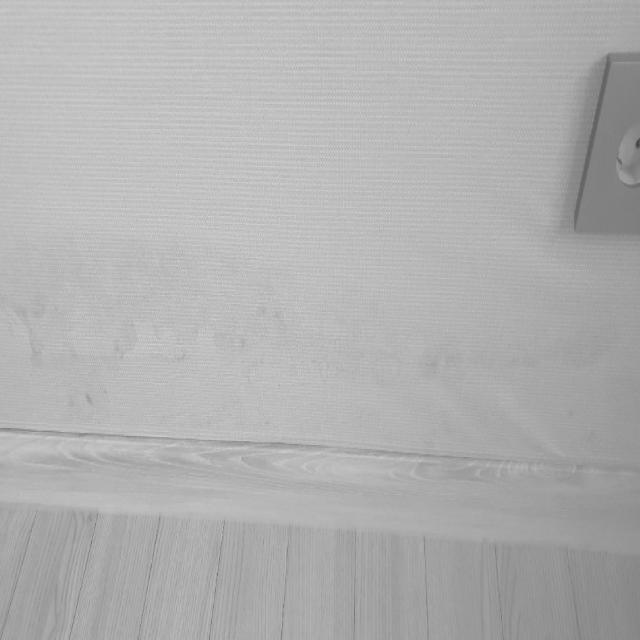stain marks: (9, 260, 628, 427)
